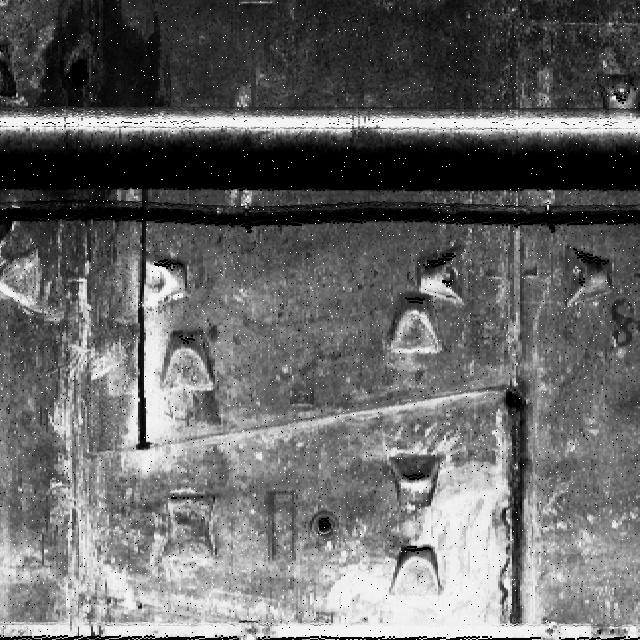leakage: (20, 1, 172, 119), (31, 190, 121, 232)
